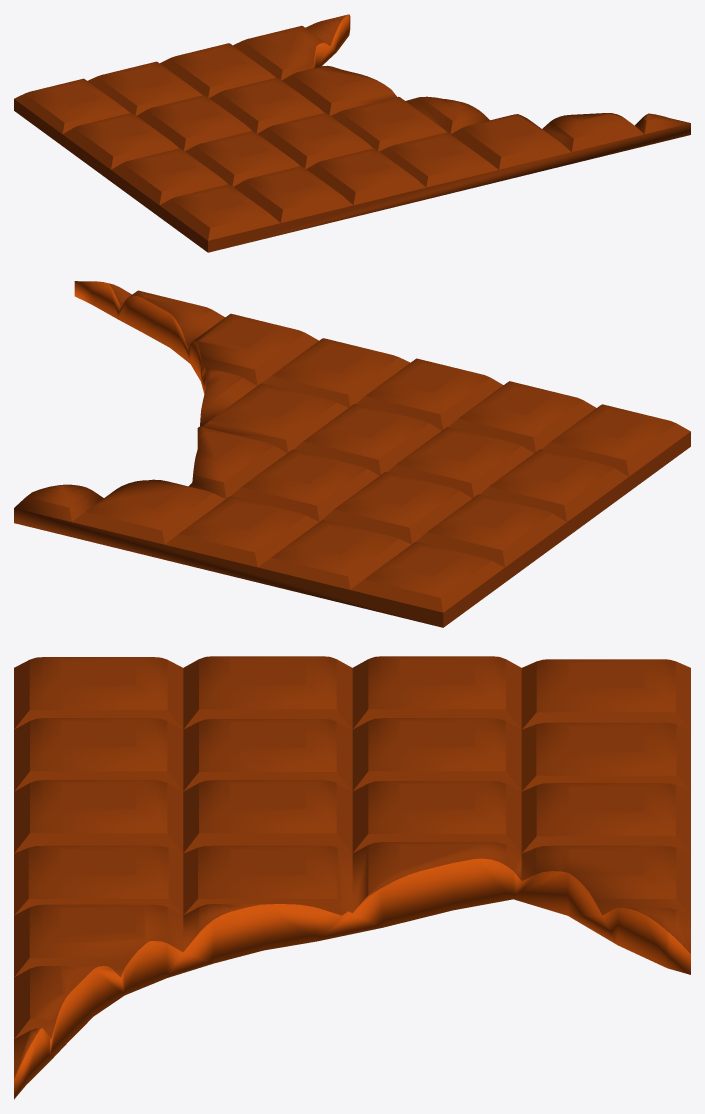
The model's file is All at one food 3.fbx_Collection_4.fbx.
3 renders of one model, top to bottom at view 1: azimuth 30°, elevation 25°; view 2: azimuth 150°, elevation 25°; view 3: azimuth 270°, elevation 25°, orthographic. The views are drawn at different scales.
Visible parts, largest first — view 1: 3. second bite; view 2: 3. second bite; view 3: 3. second bite.
Part boxes in pixels (left/top/right/bottom): 3. second bite: left=14, top=14, right=690, bottom=252; 3. second bite: left=14, top=281, right=690, bottom=627; 3. second bite: left=14, top=656, right=690, bottom=1099.
Size of the model in its own units: 38.07 by 2.05 by 26.49.
